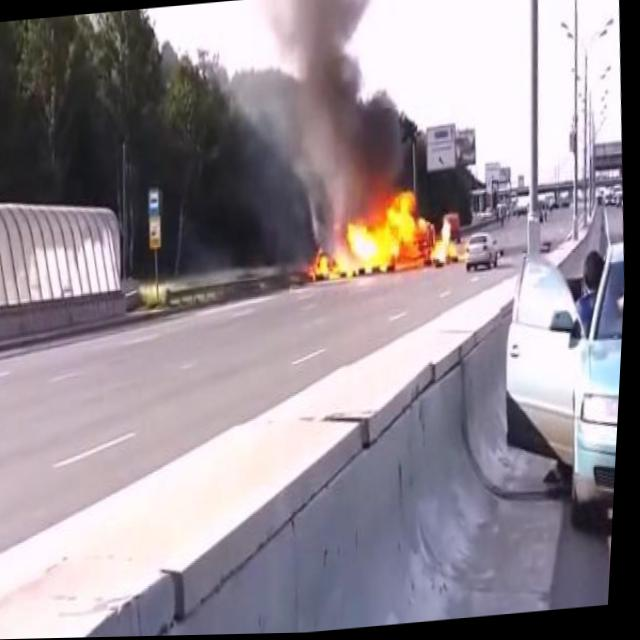fire: (307, 181, 469, 289)
